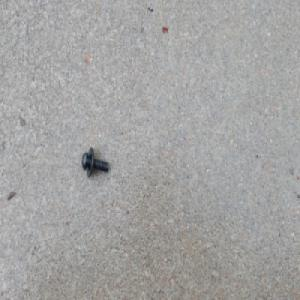BoltWasher: (81, 146, 109, 179)
